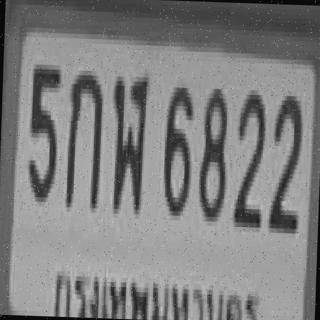A01: (64, 70, 102, 211)
A42: (108, 68, 149, 217)
N02: (268, 94, 304, 232), (233, 85, 266, 227)
N05: (26, 64, 60, 202)
N06: (162, 83, 194, 216)
N08: (197, 86, 229, 219)
